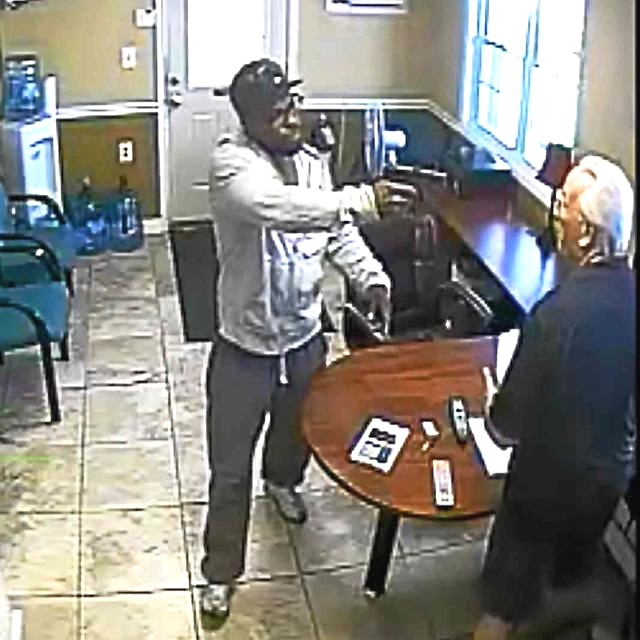gun: (374, 156, 452, 224)
